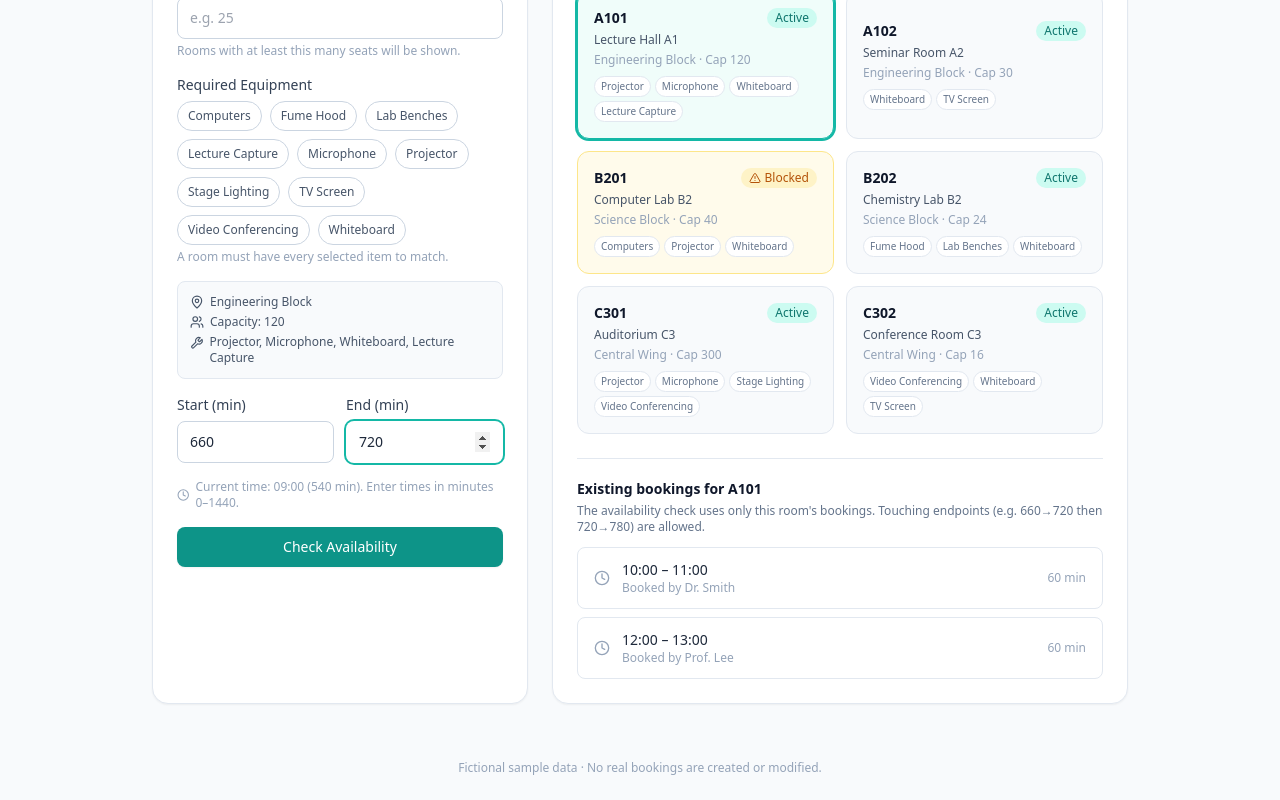
Test: App room catalog and availability UI › D7: switching A101 -> B201 clears the result and B201 is Unavailable (blocked)
The width and height of the screenshot is (1280, 800).
Earlier steps of the test are not shown.
(page scrolled)
Click the button "Check Availability".
click(340, 547)  # box [177,527,503,567]
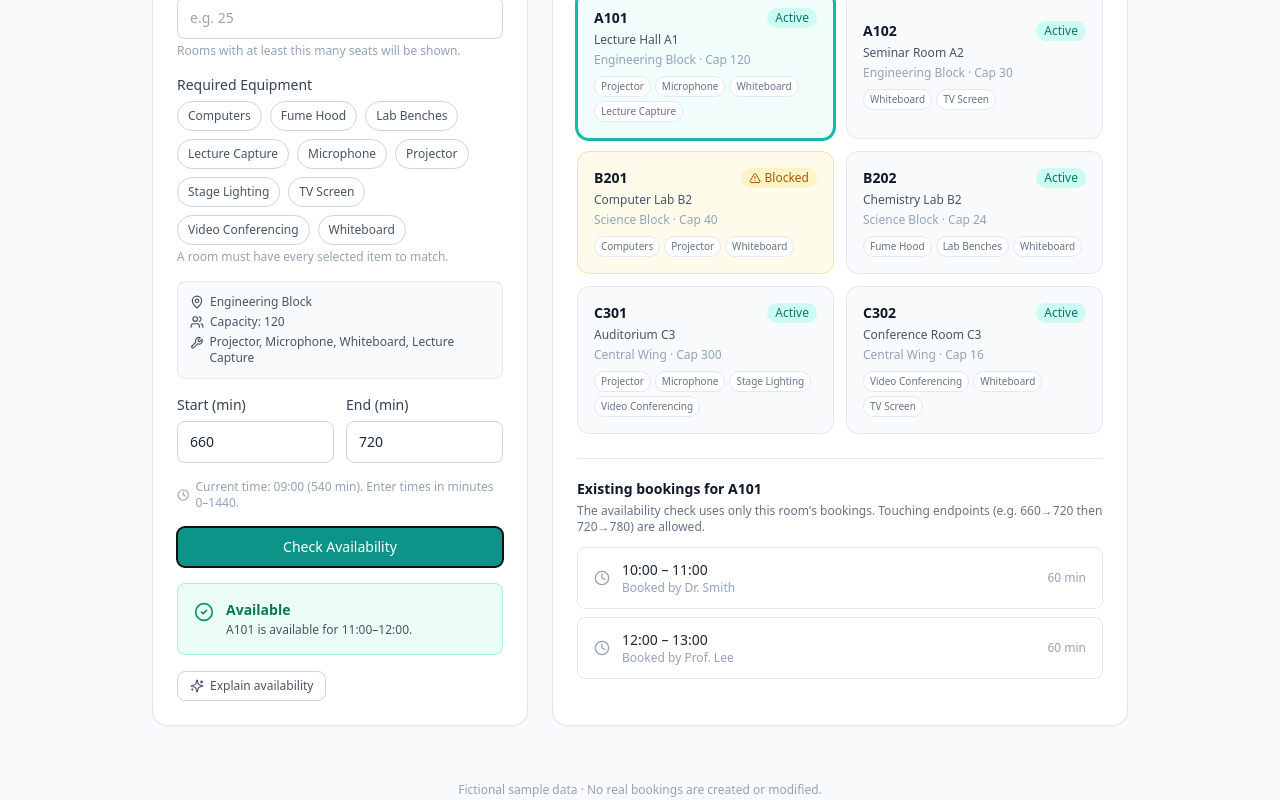
Now the text "Available" is shown, box [226,600,290,619]
Click the button that starts with "B201".
click(706, 212)  # box [577,151,834,274]
(page scrolled)
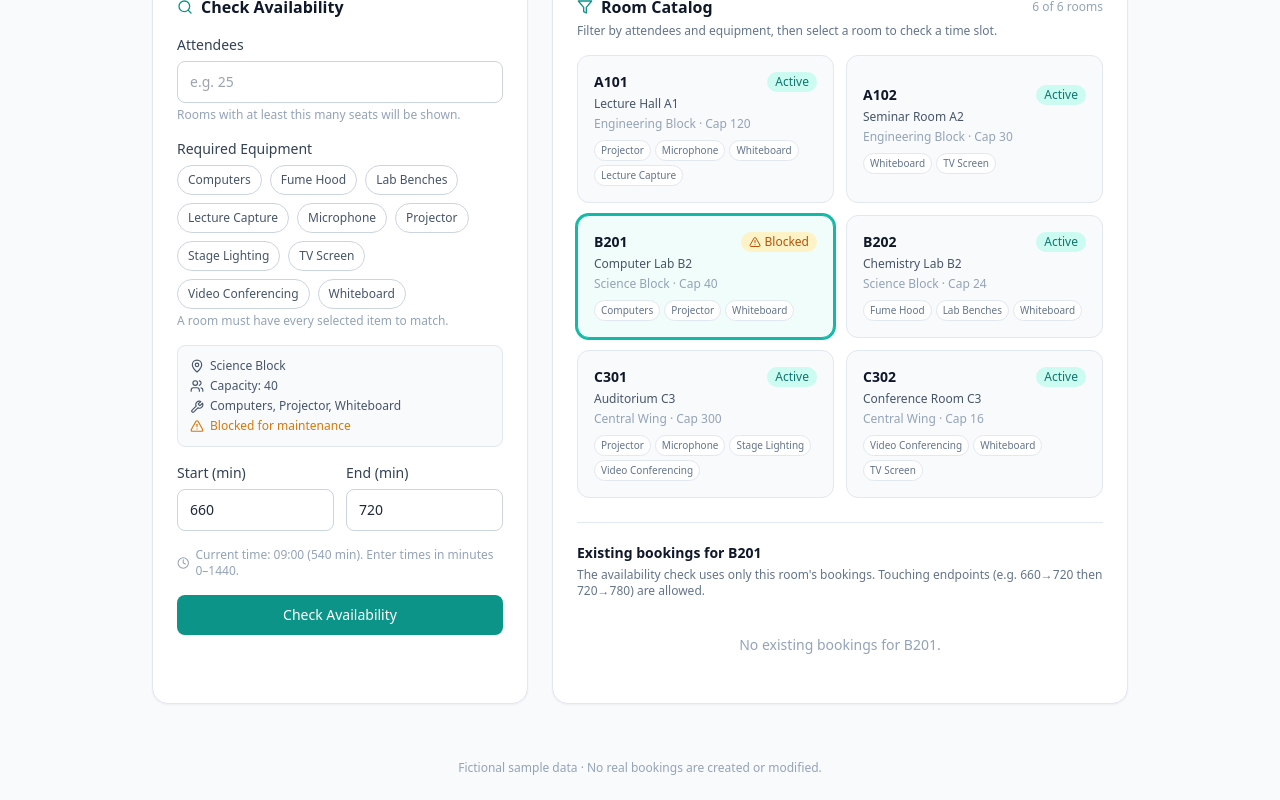
Now the text "Available" is gone
Clear the number field labelled "Start (min)" at (256, 510), box [177,489,334,531]
Clear the number field labelled "End (min)" at (424, 510), box [346,489,503,531]
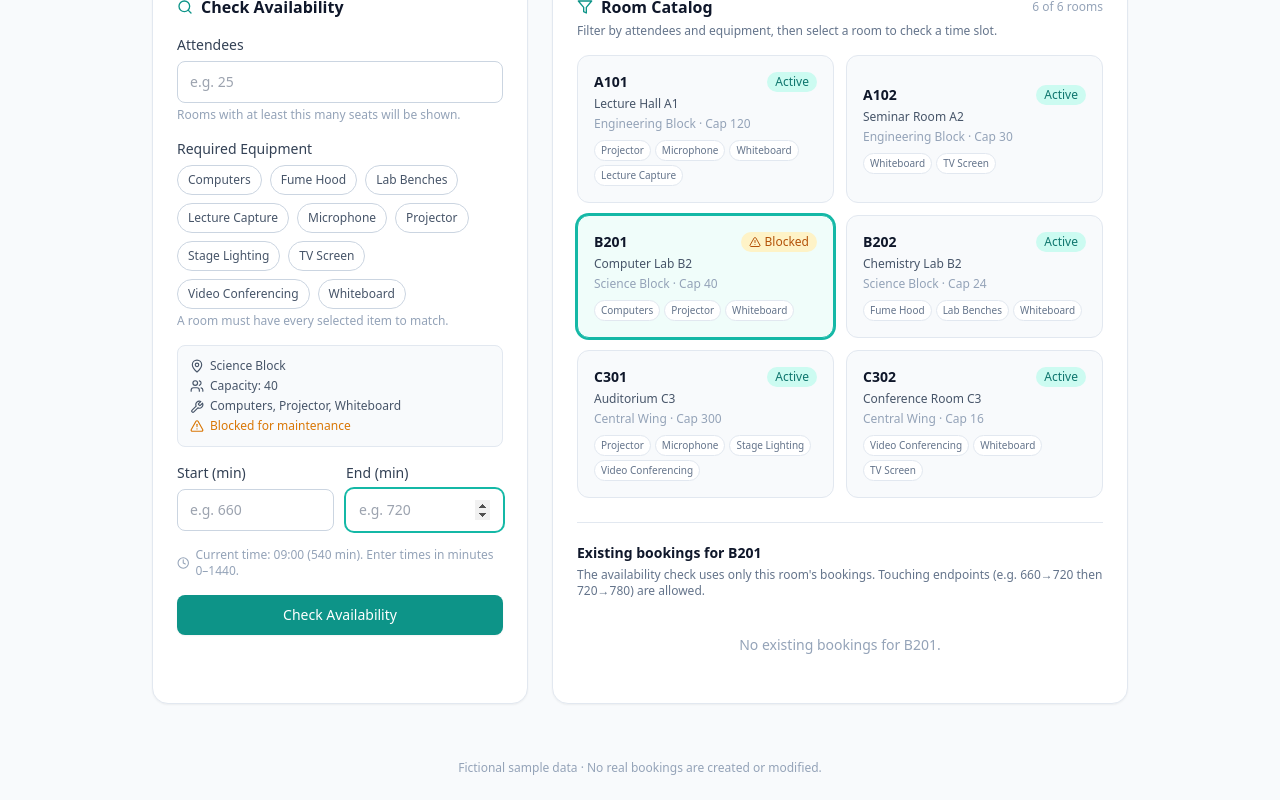
Type "660" into the number field labelled "Start (min)".
click(256, 510); type("660")  # box [177,489,334,531]
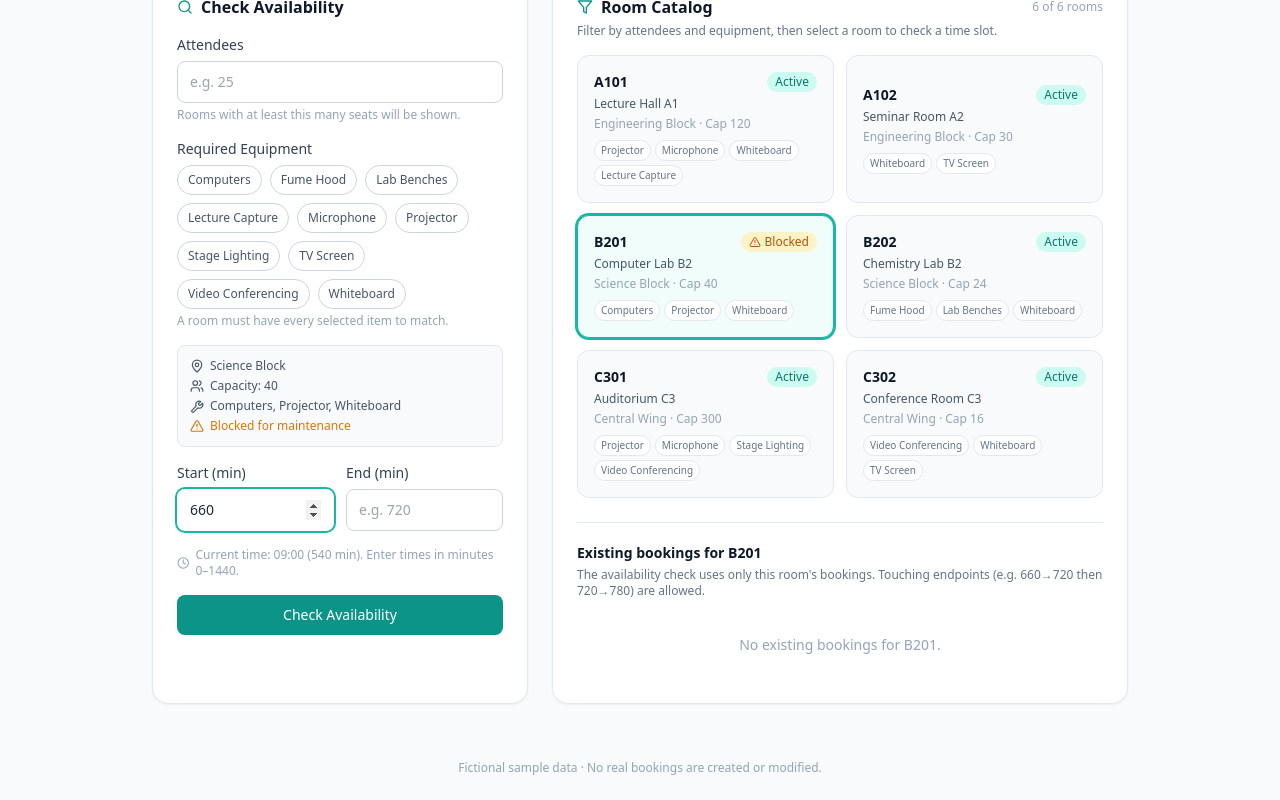
Type "720" into the number field labelled "End (min)".
click(424, 510); type("720")  # box [346,489,503,531]
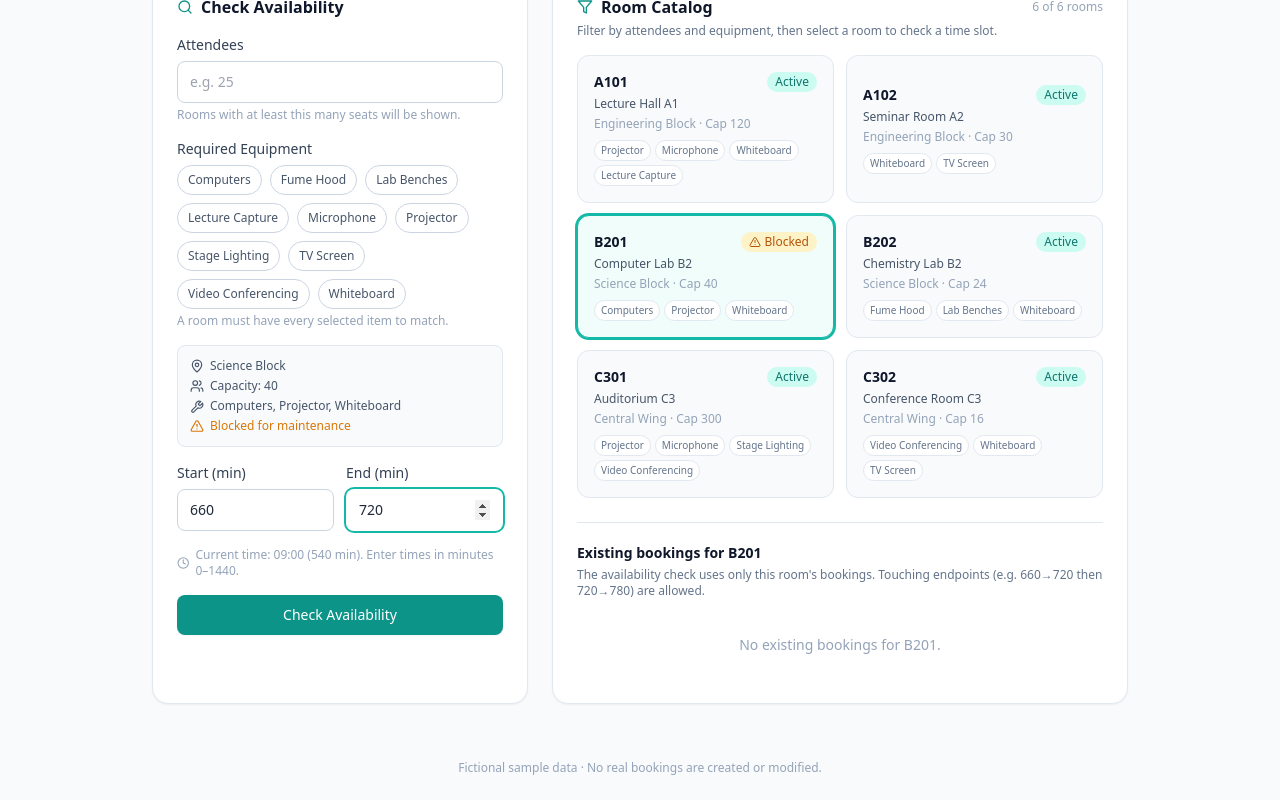
Click the button "Check Availability".
click(340, 615)  # box [177,595,503,635]
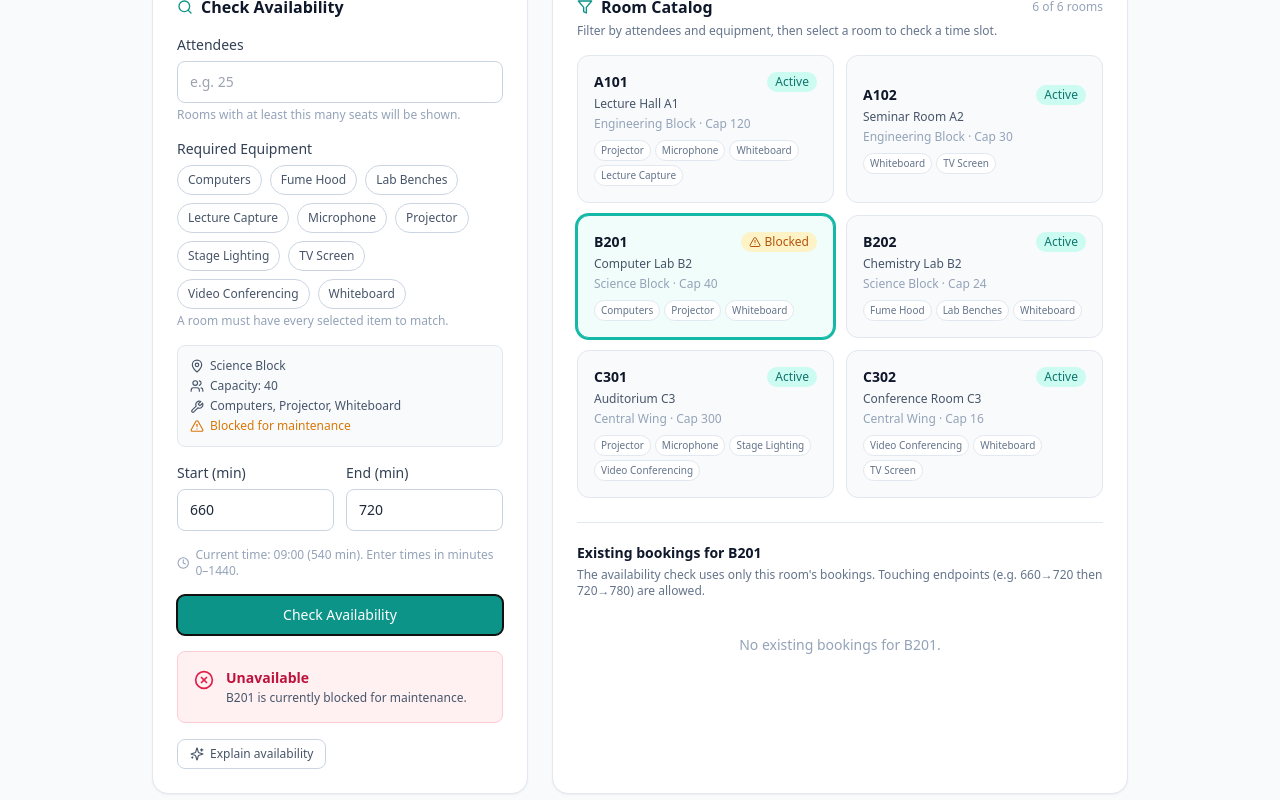
Now the text "Unavailable" is shown, box [226,668,309,687]
